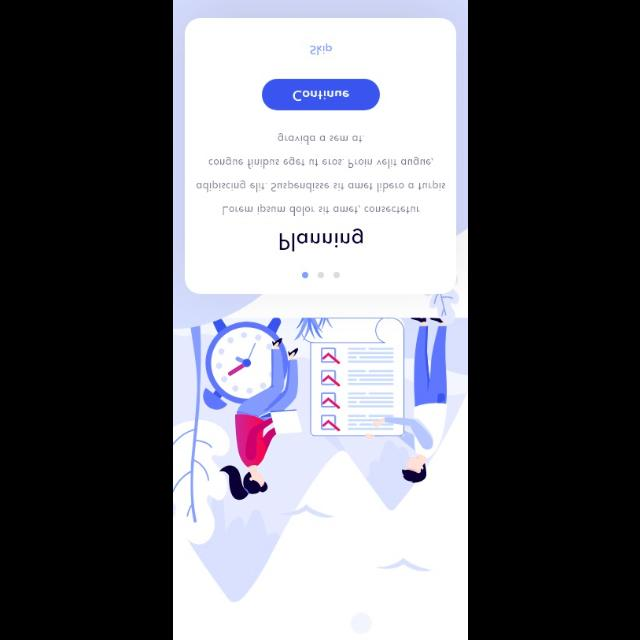image: (173, 294, 467, 634)
pageindicator: (302, 271, 341, 279)
panel: (184, 18, 456, 294)
text: (197, 132, 446, 215), (279, 228, 363, 252), (310, 42, 332, 56)
textbutton: (262, 78, 381, 110)
